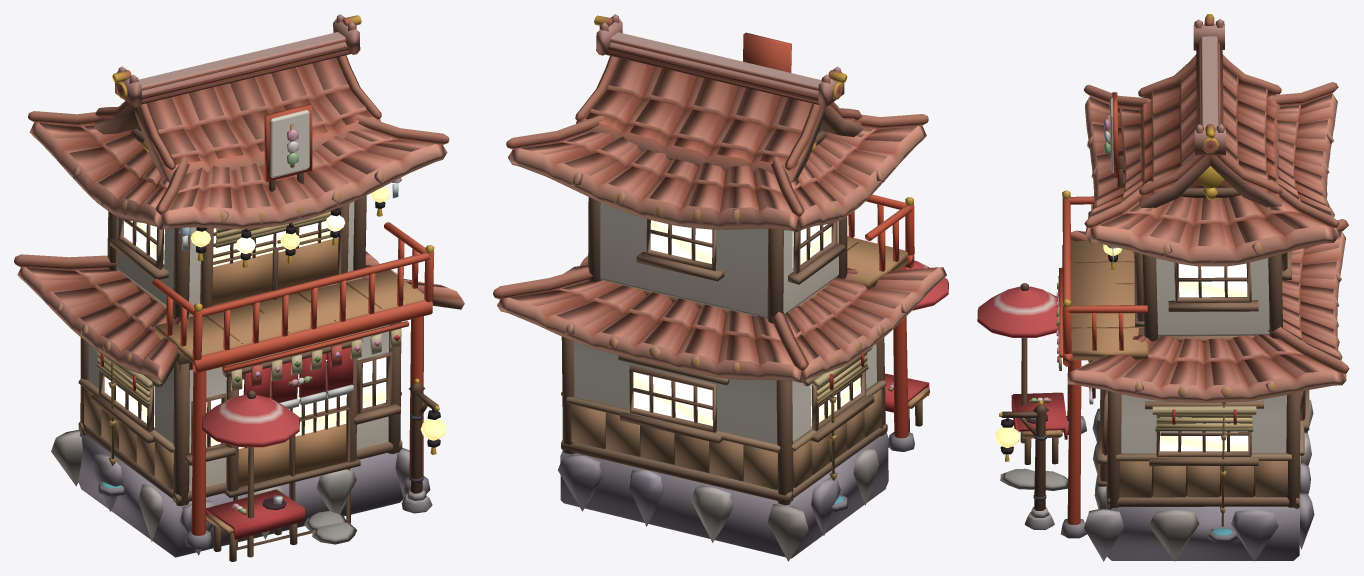
Rendered from shop-3-v6.glb.
3 renders of one model, left to right at view 1: azimuth 30°, elevation 25°; view 2: azimuth 150°, elevation 25°; view 3: azimuth 270°, elevation 25°, orthographic. The views are drawn at different scales.
Visible parts, largest first — view 1: shop, window_glow; view 2: shop, window_glow; view 3: shop, window_glow.
Part boxes in pixels (<box>): shop: <box>14,14,464,561</box>; window_glow: <box>104,186,446,448</box>; shop: <box>493,14,948,561</box>; window_glow: <box>633,220,860,426</box>; shop: <box>977,14,1349,561</box>; window_glow: <box>995,244,1248,451</box>.
Bounding box in the file's own units: 3.56 × 4.98 × 3.81.
